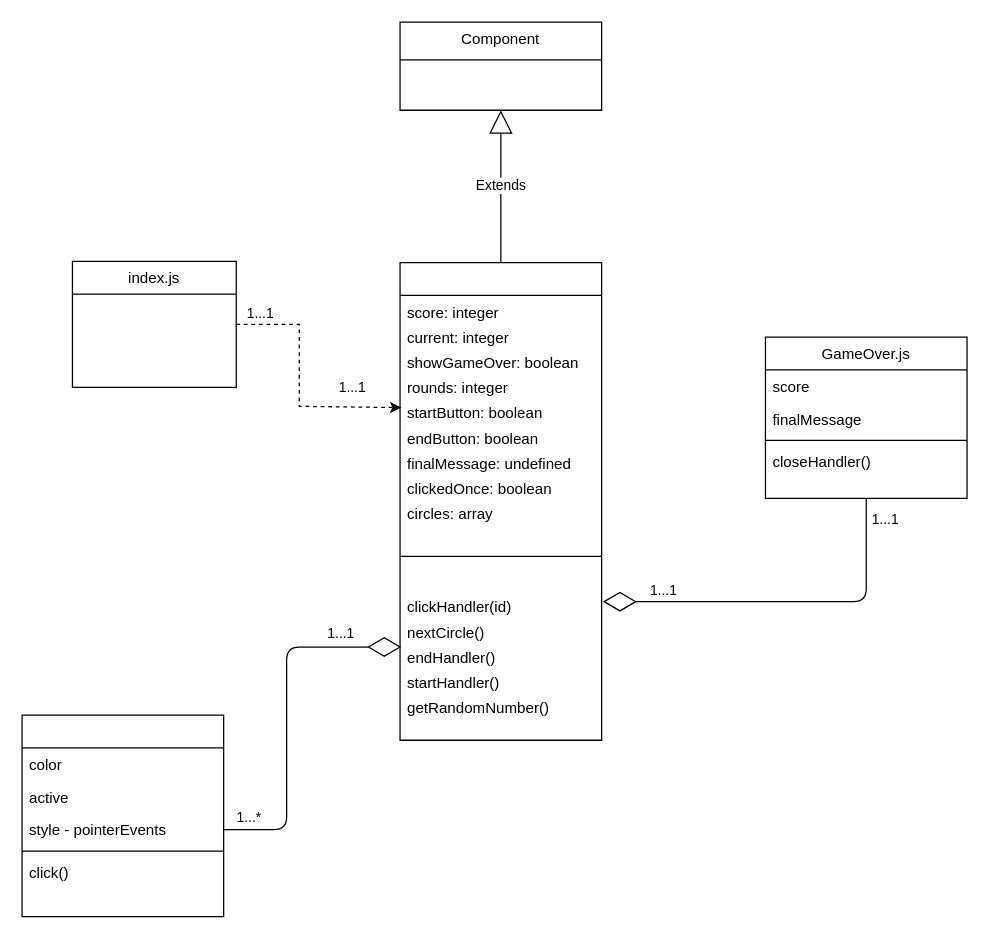
The diagram is 989 pixels wide and 939 high, and some of its shapes have lost their labels. Each missing label, with the box of its shape:
App.js: (399, 261, 602, 740)
Circle: (21, 714, 224, 917)
